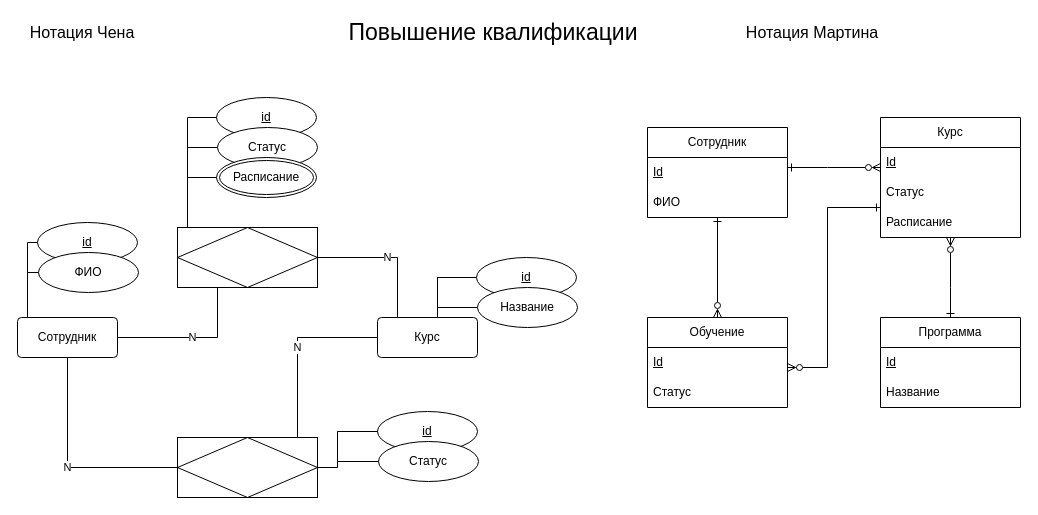
Image size: 1038x515. Some labels were removed from this diagram. The centre of each missing label's shape, as x and y in pixels:
Ведёт: point (247, 257)
Посещает: point (247, 467)
